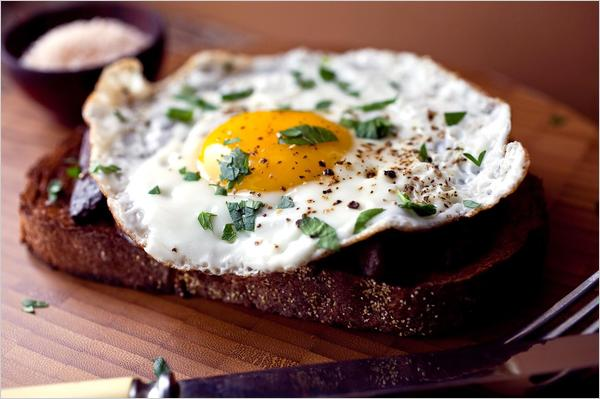fried egg: (99, 66, 518, 241)
slice of bread: (16, 204, 509, 345)
